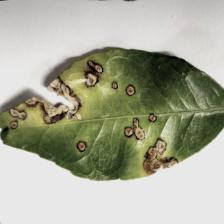canker: (2, 48, 182, 182)
